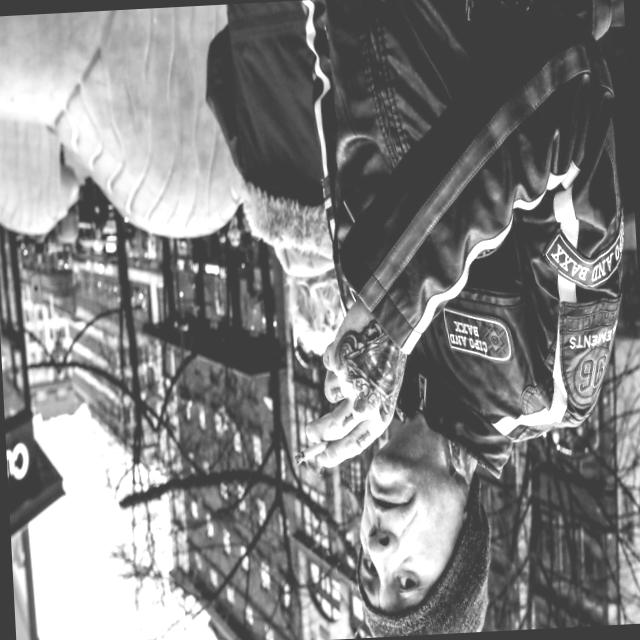smoke: (292, 432, 328, 475)
